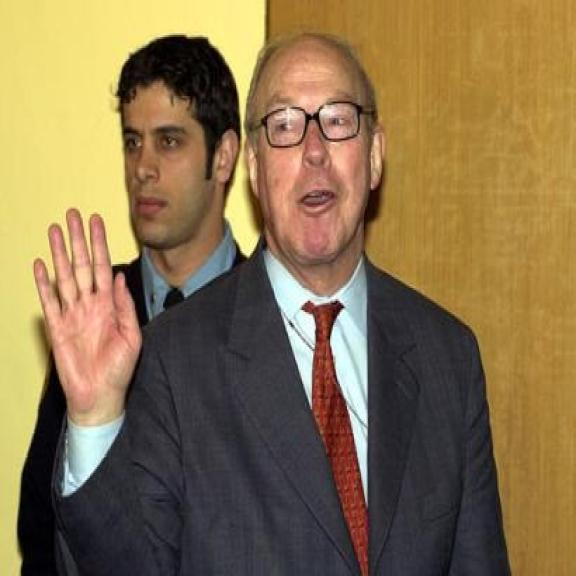face: (243, 61, 388, 268), (120, 86, 240, 252)
